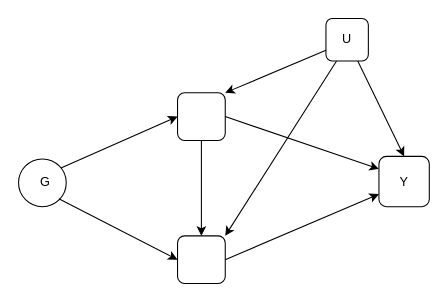
This 448x302 diagram has some shape labels left out. The shapes that lost their labels are listed below. From the top down, each one's centre as x and y in pixels, then its label:
the point at 200,116: X 1
the point at 200,259: X 2
